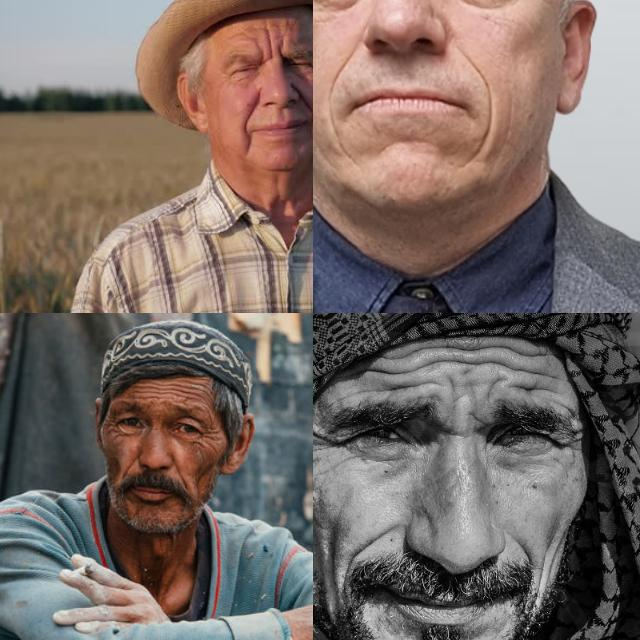crows_feet: (313, 425, 337, 455), (557, 434, 581, 458), (198, 423, 220, 445), (104, 414, 118, 434)
forehead: (493, 339, 542, 377), (369, 358, 425, 388), (438, 339, 486, 371), (508, 373, 554, 405), (183, 378, 204, 406), (159, 380, 179, 402), (224, 26, 250, 42), (134, 380, 154, 400)
frown_line: (466, 403, 486, 432), (272, 38, 286, 66), (260, 32, 276, 56), (256, 40, 268, 64)
gummy_smile: (460, 47, 500, 105), (324, 39, 358, 95), (344, 522, 390, 558), (514, 536, 538, 568), (240, 96, 260, 125), (120, 452, 138, 478), (294, 82, 310, 111), (170, 456, 186, 482)
sad_smile: (468, 114, 496, 170), (326, 114, 356, 166), (242, 132, 256, 154)
